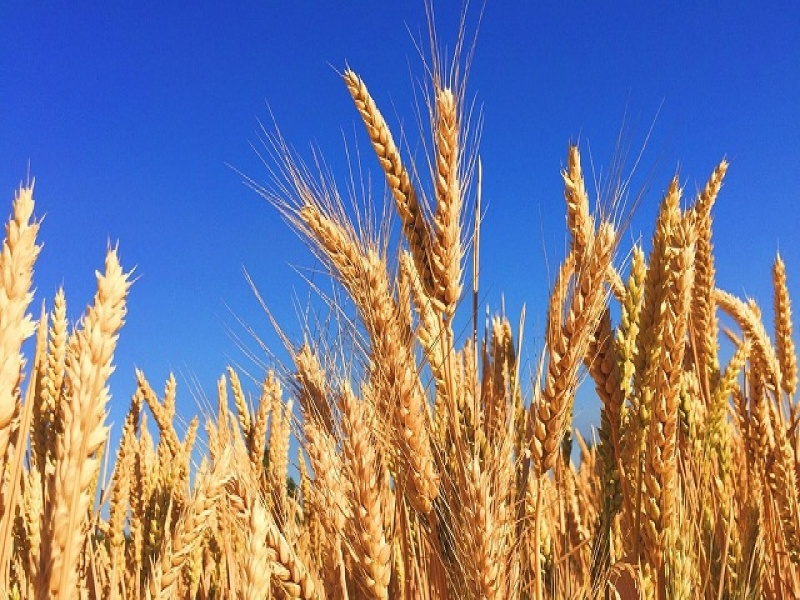wheat: (202, 9, 546, 595), (537, 118, 732, 565), (1, 141, 135, 598), (705, 231, 798, 549), (110, 359, 216, 597)
